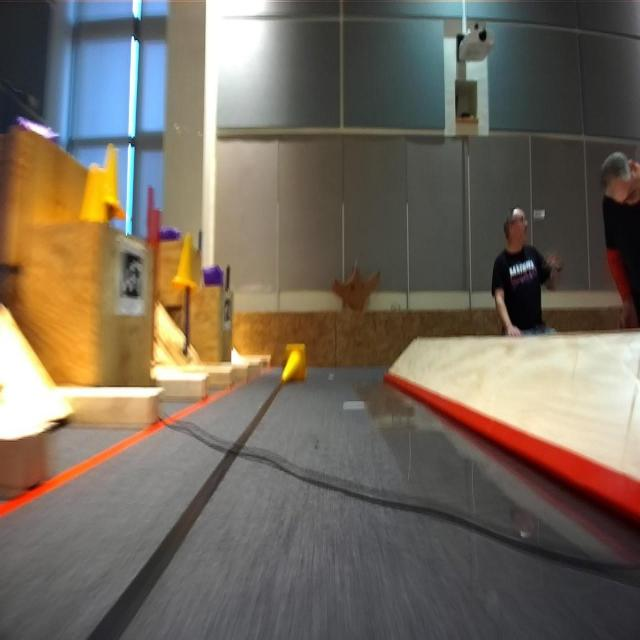frc_cone: (96, 143, 127, 221), (171, 228, 200, 292), (80, 171, 108, 225), (278, 342, 313, 383)
frc_cube: (202, 263, 222, 290), (159, 222, 179, 244)
